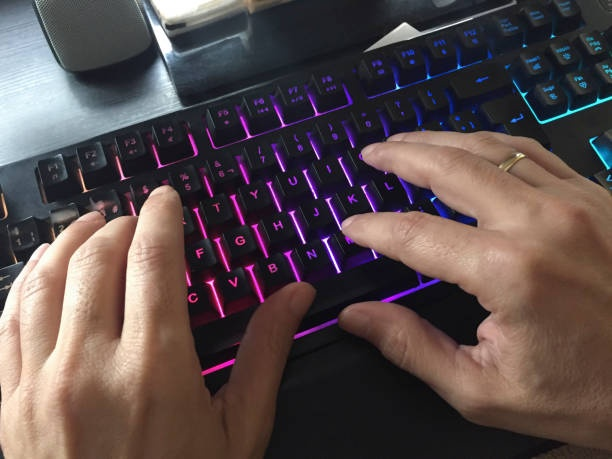keyboard: (1, 1, 612, 385)
